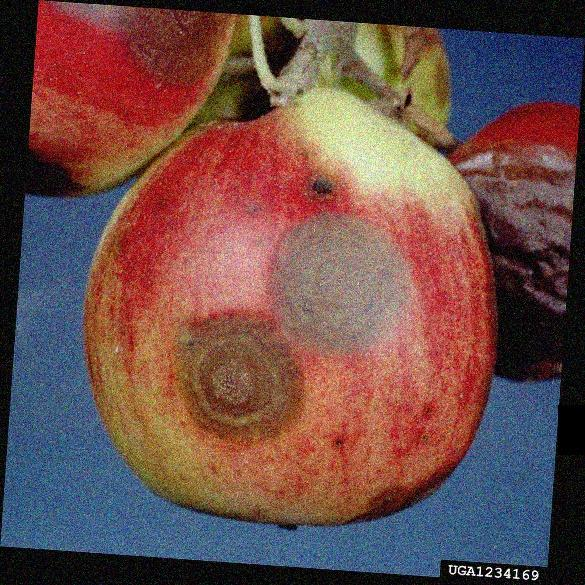rotten apple: (95, 95, 501, 523)
